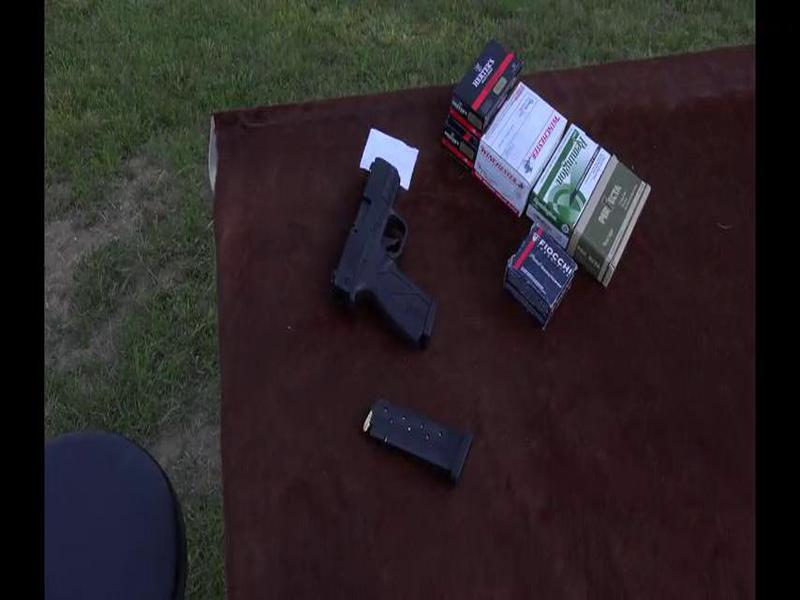Pistola: (310, 154, 457, 358)
